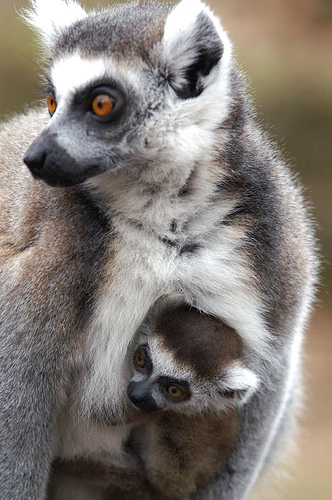cat: (0, 0, 315, 498)
